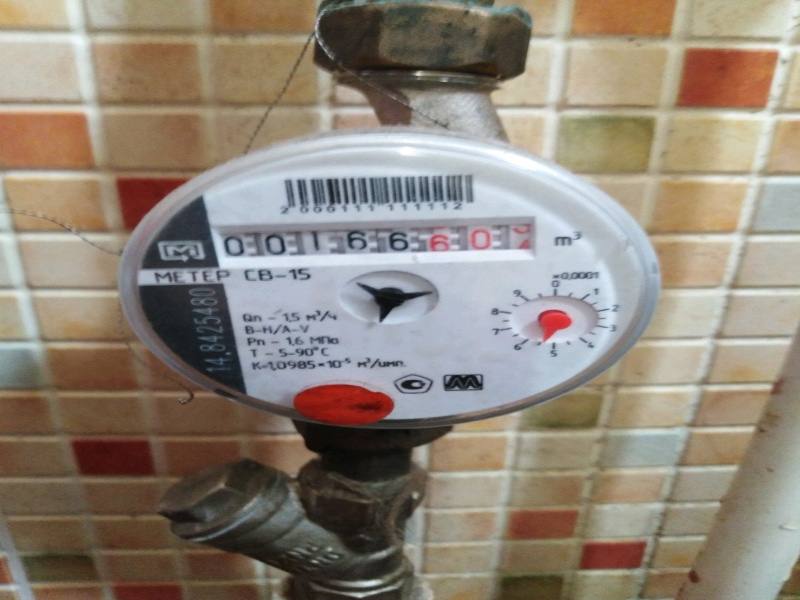meter: (209, 220, 530, 257)
